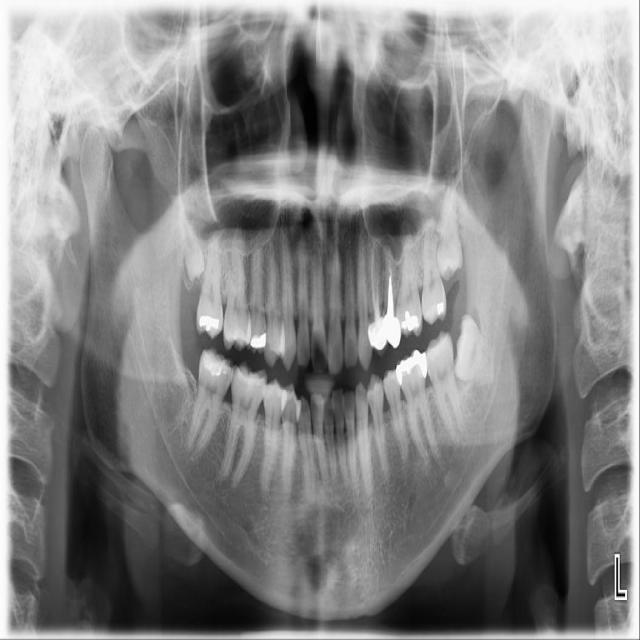3M ESPE Implant: (167, 190, 209, 283)
52: (191, 342, 244, 392), (388, 346, 437, 394), (393, 293, 426, 340), (418, 285, 451, 328), (194, 298, 225, 341), (378, 306, 406, 351), (366, 312, 390, 356), (245, 317, 268, 354)
73: (366, 243, 382, 317), (382, 245, 398, 311), (614, 578, 620, 586)
BioHorizons Implant: (417, 215, 448, 328)
BioLife Implant: (435, 179, 463, 282)
Biomet 3i Implant: (451, 313, 502, 388)
Blue Sky Bio Implant: (419, 328, 468, 451)
Caries: (196, 233, 223, 339)
Implant: (183, 344, 238, 462)
